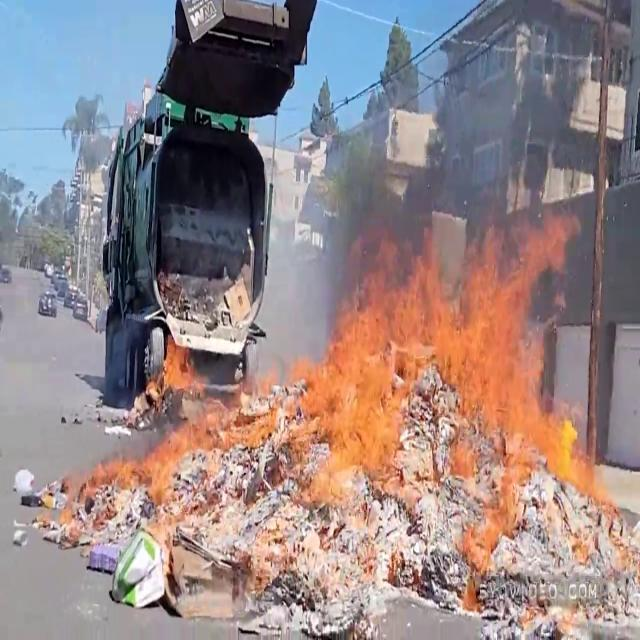Fire: (298, 214, 620, 560), (103, 332, 241, 518)
Smoke: (245, 147, 368, 401)
